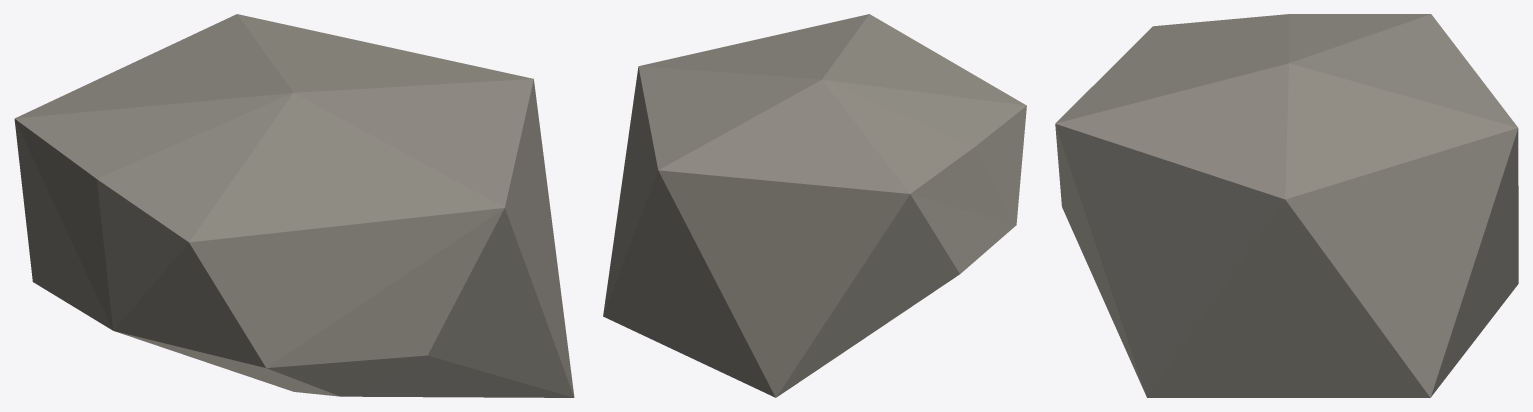
File: Rock_11.fbx
3 views of the same model, side by side, from view 1: azimuth 30°, elevation 25°; view 2: azimuth 150°, elevation 25°; view 3: azimuth 270°, elevation 25° (orthographic). The views are drawn at different scales.
Visible parts, largest first — view 1: Rock_11; view 2: Rock_11; view 3: Rock_11.
Boxes of the visible parts, x1=… form: Rock_11: x1=14, y1=14, x2=574, y2=397; Rock_11: x1=603, y1=14, x2=1026, y2=397; Rock_11: x1=1055, y1=14, x2=1518, y2=397.
Size of the model in its own units: 58.14 by 36.35 by 59.45.
